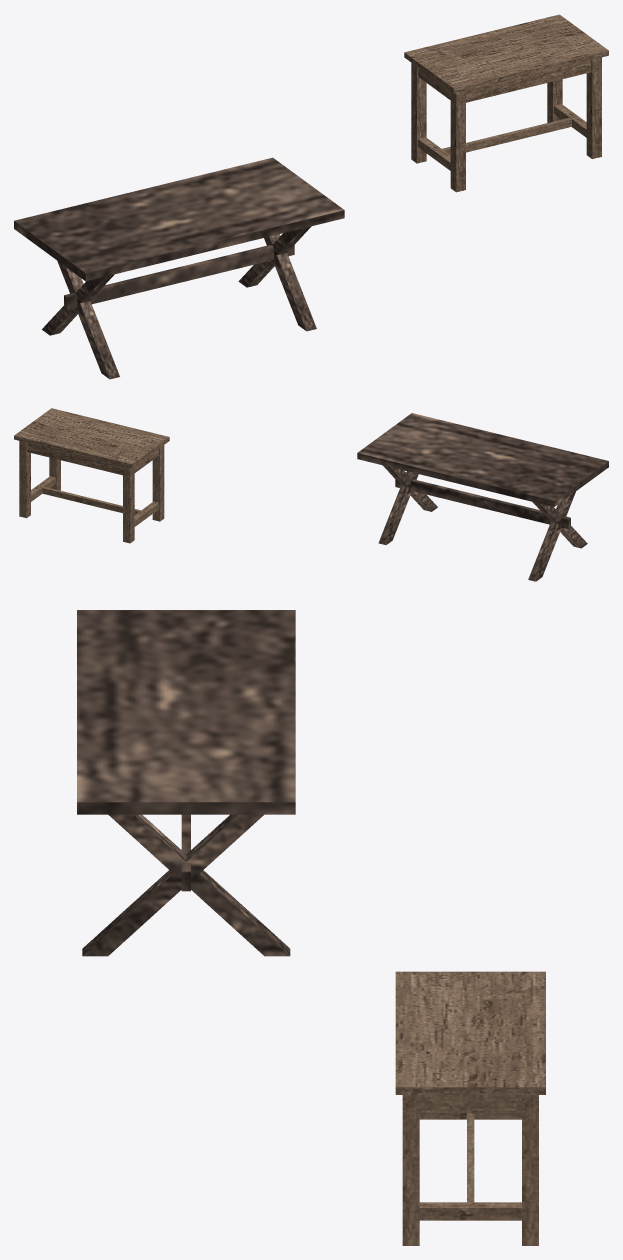
File: chairs_tables_psx_asset_pack.fbx
The picture shows the model from 3 angles, top to bottom: view 1: azimuth 30°, elevation 25°; view 2: azimuth 150°, elevation 25°; view 3: azimuth 270°, elevation 25°; orthographic projection. The views are drawn at different scales.
Parts seen in each view (by area): view 1: wood_table07, wood_table01; view 2: wood_table07, wood_table01; view 3: wood_table07, wood_table01.
Part boxes in pixels (left/top/right/bottom): wood_table07: left=14, top=157, right=344, bottom=379; wood_table01: left=404, top=14, right=608, bottom=192; wood_table07: left=357, top=413, right=608, bottom=581; wood_table01: left=14, top=408, right=169, bottom=543; wood_table07: left=77, top=610, right=295, bottom=956; wood_table01: left=395, top=971, right=545, bottom=1245.
Bounding box in the file's own units: 970 × 168 × 412.
2 materials, 2 textured.
